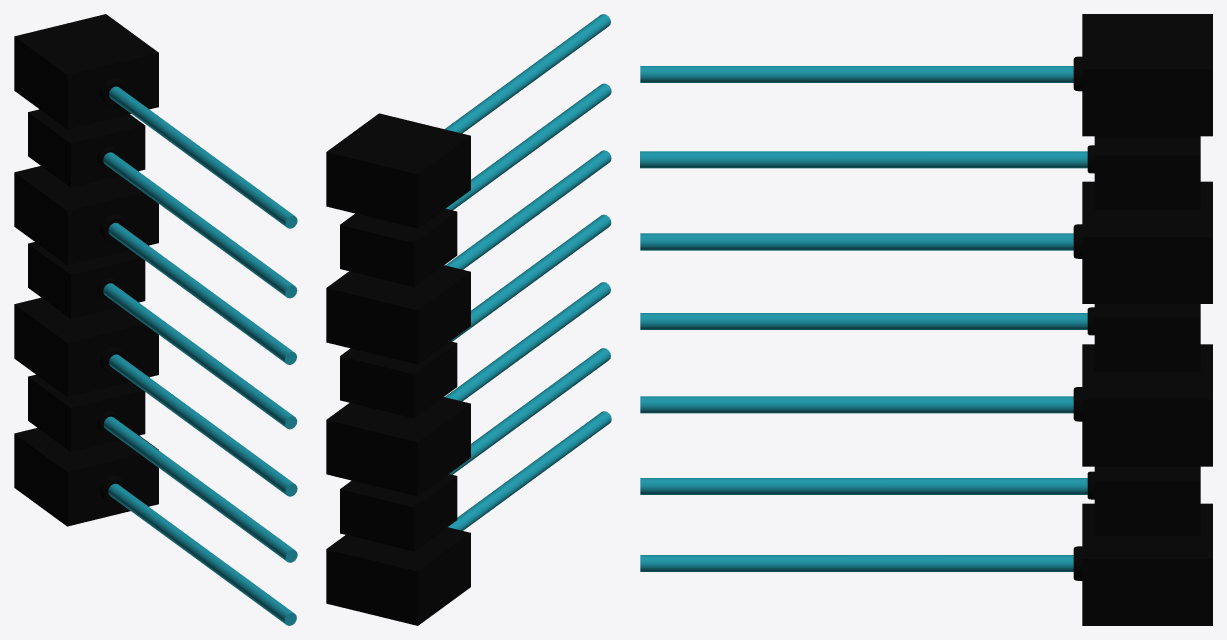
The model's file is PillieCube.FBX.
The picture shows the model from 3 angles, left to right: view 1: azimuth 30°, elevation 25°; view 2: azimuth 150°, elevation 25°; view 3: azimuth 270°, elevation 25°; orthographic projection. The views are drawn at different scales.
Parts seen in each view (by area): view 1: Box022, Cylinder008; view 2: Box022, Cylinder008; view 3: Box022, Cylinder008.
Part boxes in pixels (left/top/right/bottom): Box022: left=14, top=14, right=158, bottom=526; Cylinder008: left=103, top=86, right=297, bottom=625; Box022: left=326, top=113, right=470, bottom=625; Cylinder008: left=445, top=14, right=611, bottom=530; Box022: left=1073, top=14, right=1212, bottom=625; Cylinder008: left=640, top=66, right=1087, bottom=571.
Bounding box in the file's own units: 30 × 141 × 132.
